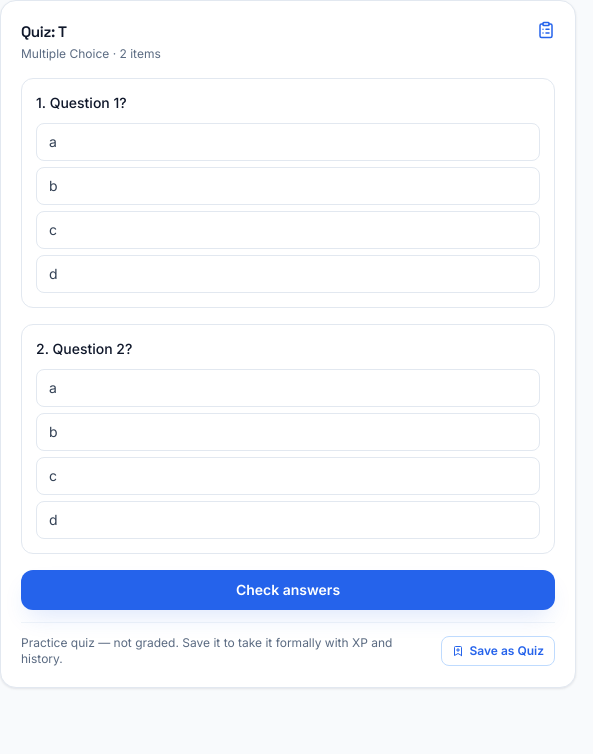
Test: QuizCard — chat quiz cards are never affected by long-quiz UI › a chat quiz with unanswered items still submits immediately — no pre-submit warning
Click the button "Check answers". click: x=288, y=590
box: [21,570,555,610]
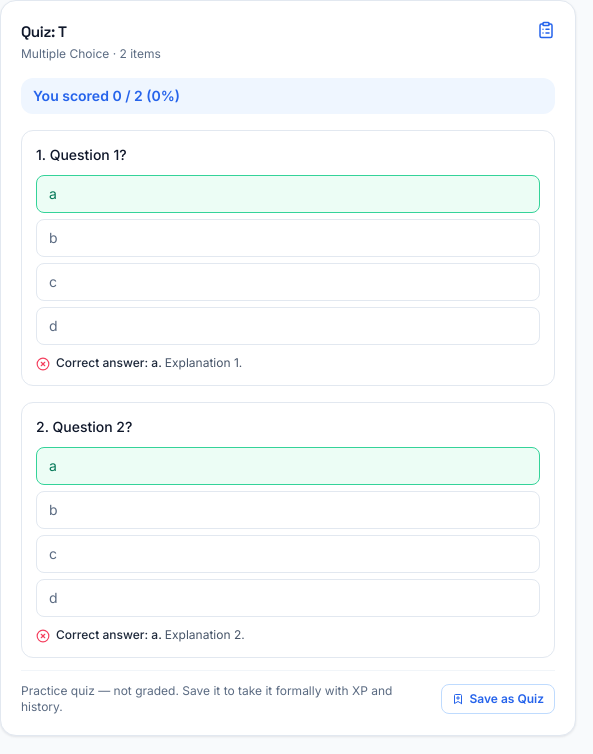
Check: the text "You scored 0 / 2 (0%)" is shown, box [21,78,555,114]
